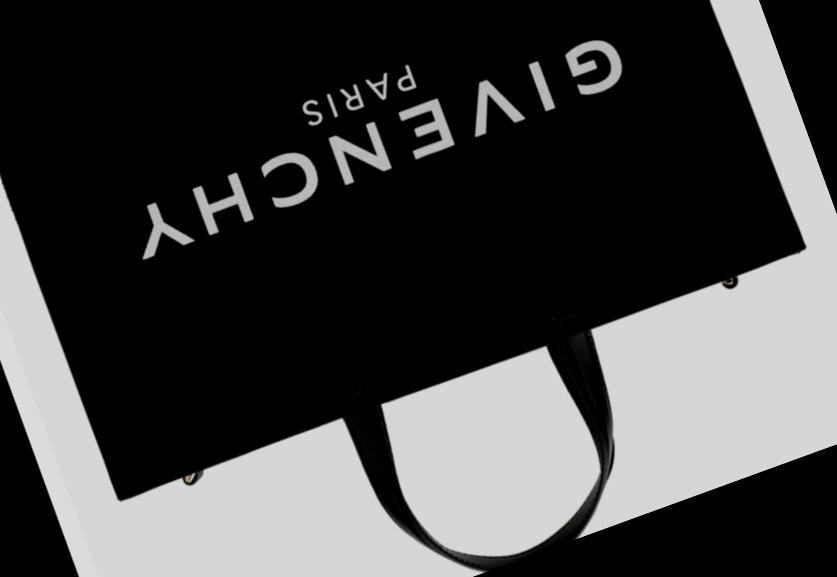GIVENCHY: (113, 17, 644, 268)
